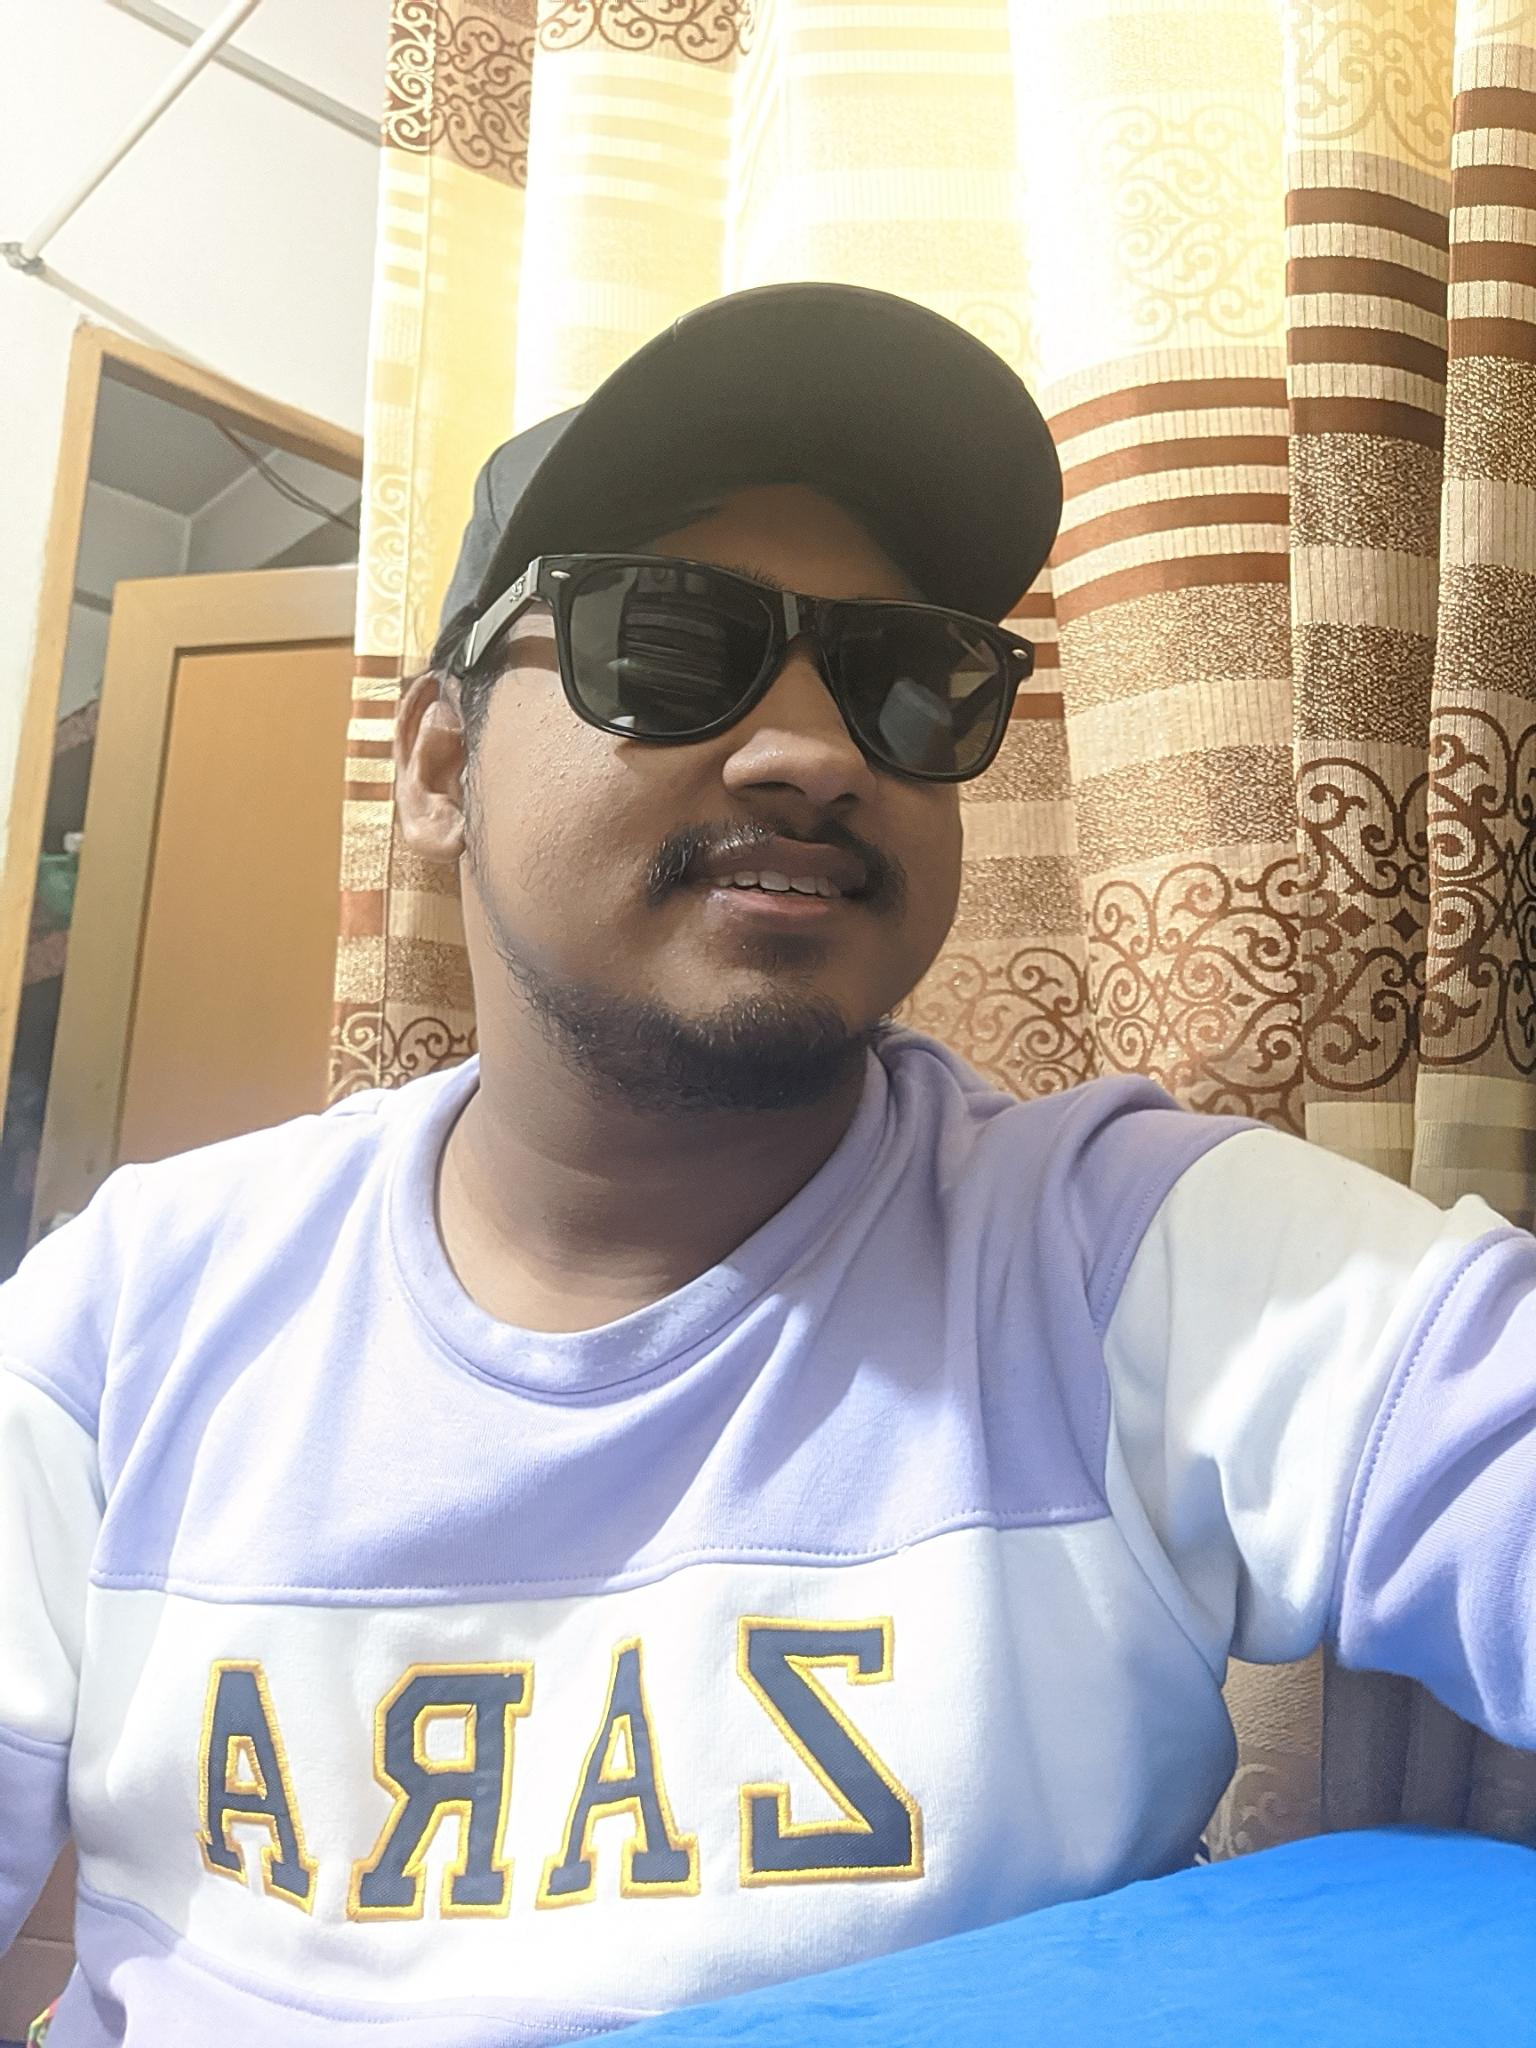Happy: (481, 526, 971, 1051)
